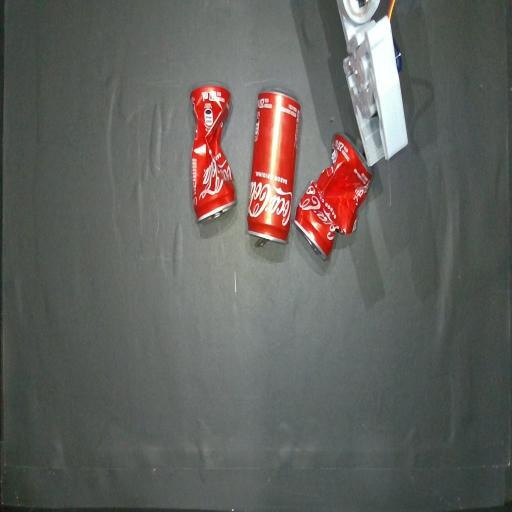lata: (247, 90, 301, 247)
lata_defectuoso: (294, 134, 371, 260), (190, 84, 236, 221)
